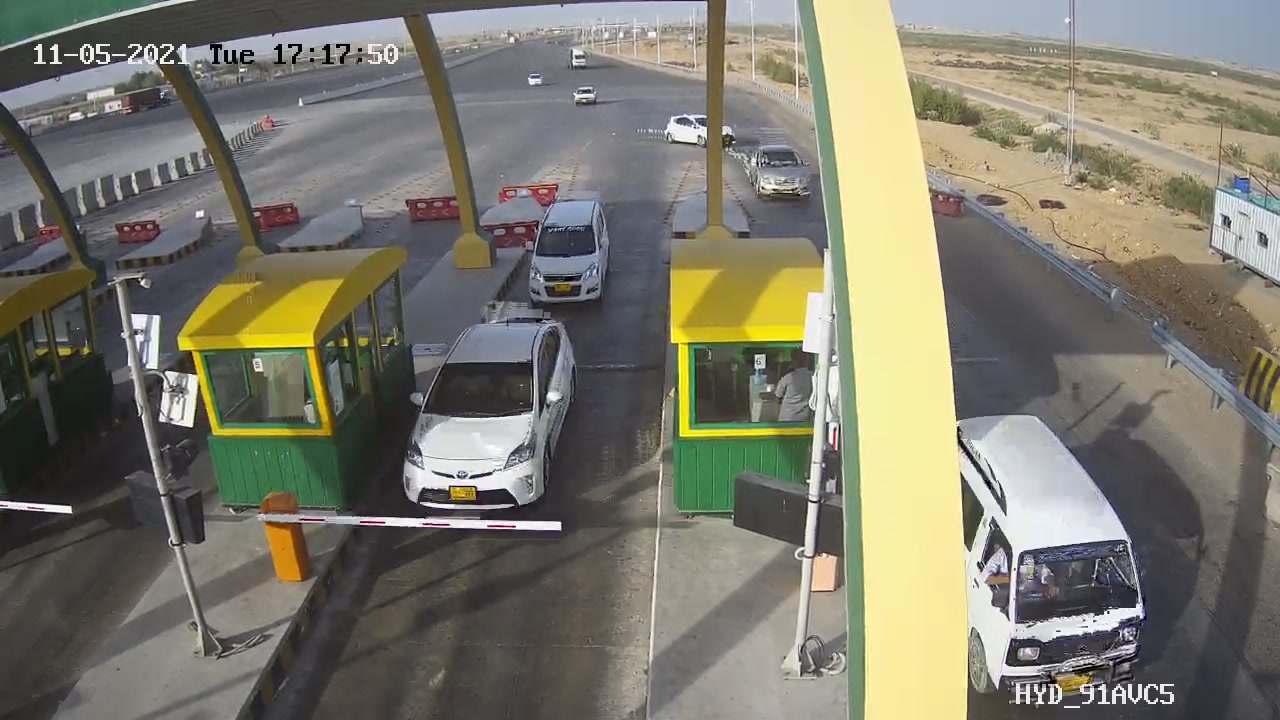F1: (390, 305, 596, 521), (513, 186, 625, 317)
